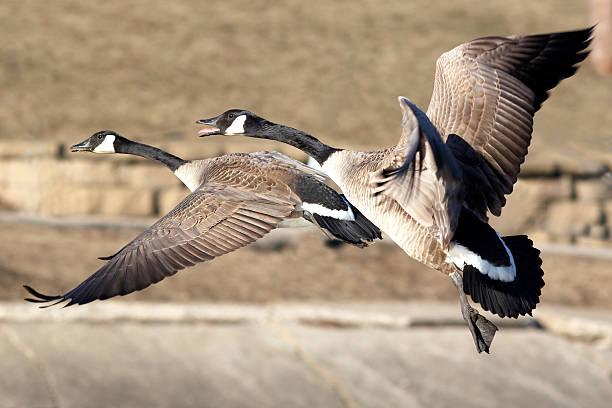Canadian-Goose: (203, 31, 600, 338), (30, 130, 366, 310)
